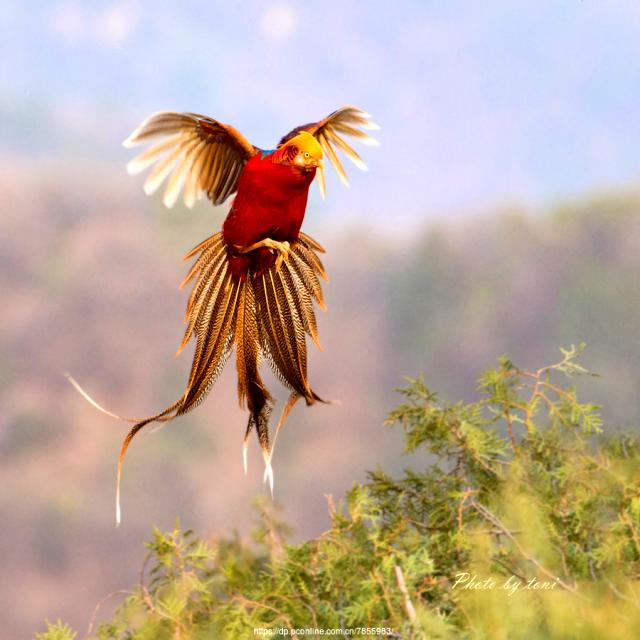Chrysolophus pictus feather: (149, 233, 326, 457)
